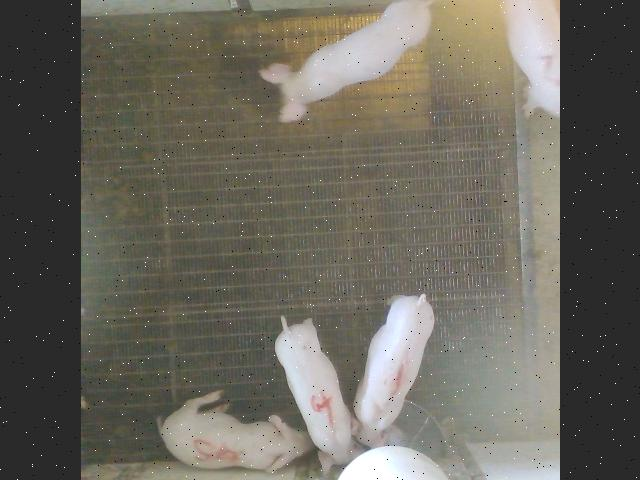pig-1: (352, 294, 433, 446)
pig-2: (502, 0, 559, 116)
pig-4: (274, 318, 360, 468)
pig-5: (156, 390, 312, 471)
